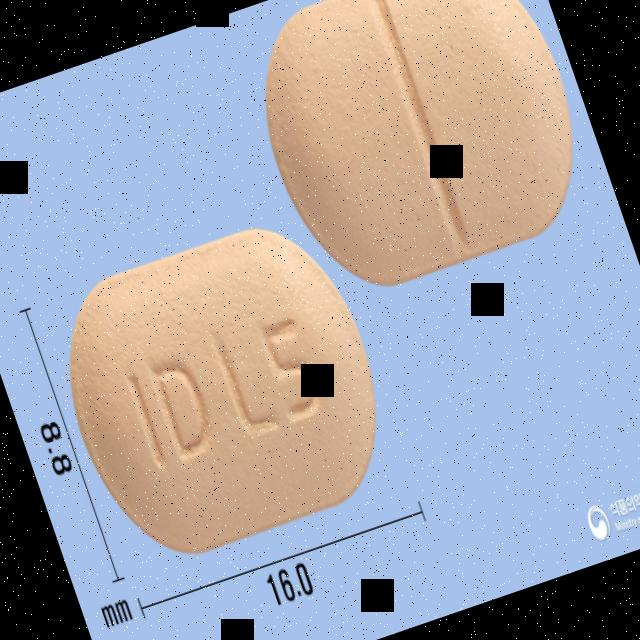Levofexin: (34, 203, 410, 574)
